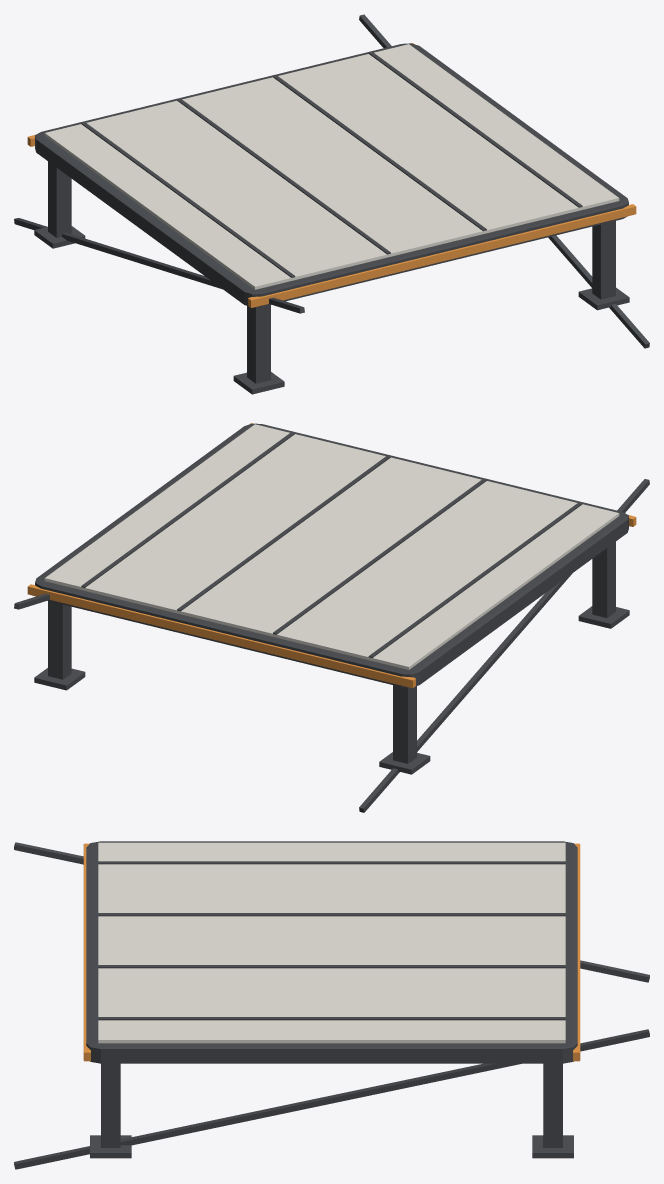
File: deck.glb
The picture shows the model from 3 angles, top to bottom: view 1: azimuth 30°, elevation 25°; view 2: azimuth 150°, elevation 25°; view 3: azimuth 270°, elevation 25°; orthographic projection. The views are drawn at different scales.
Visible parts, largest first — view 1: deck; view 2: deck; view 3: deck.
Boxes of the visible parts, left/top/right/bottom form: deck: left=14, top=14, right=649, bottom=394; deck: left=14, top=423, right=649, bottom=812; deck: left=14, top=841, right=649, bottom=1169.
Size of the model in its own units: 4.02 by 1.24 by 5.17.
